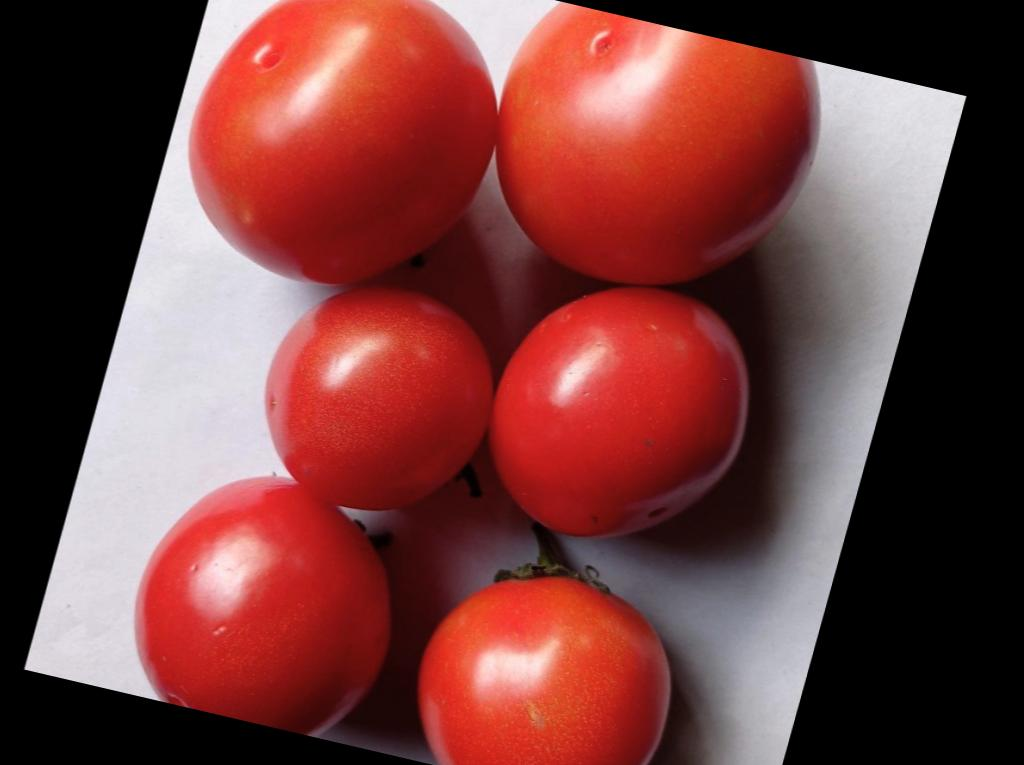tomato: (498, 1, 819, 282), (190, 0, 495, 282), (138, 476, 390, 734), (493, 285, 748, 534), (267, 286, 491, 505), (420, 573, 670, 765)
